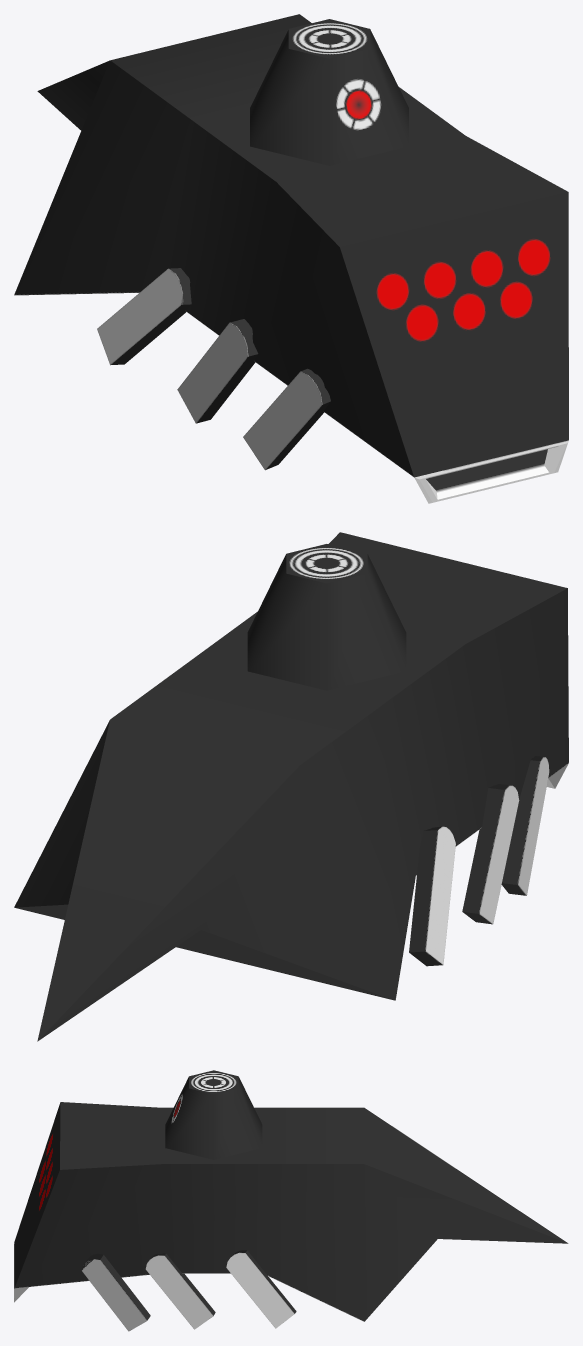
Rendered from Zambotni.fbx.
3 renders of one model, top to bottom at view 1: azimuth 30°, elevation 25°; view 2: azimuth 150°, elevation 25°; view 3: azimuth 270°, elevation 25°, orthographic. The views are drawn at different scales.
Parts seen in each view (by area): view 1: Zam_LP; view 2: Zam_LP; view 3: Zam_LP.
Part boxes in pixels (box(x1,y1,x2,y2)): Zam_LP: box(14, 14, 568, 503); Zam_LP: box(14, 532, 568, 1041); Zam_LP: box(14, 1070, 568, 1331).
Bounding box in the file's own units: 3.96 × 3.47 × 8.17.
1 material, 1 textured.
